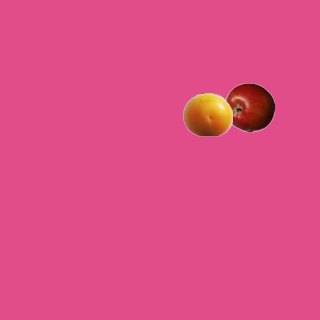Apple Braeburn: (224, 82, 274, 132)
Cherry Wax Yellow: (182, 89, 232, 139)
